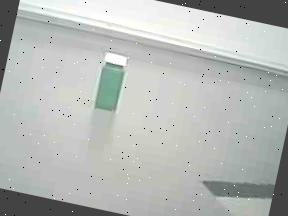Bottle C: (78, 41, 141, 125)
